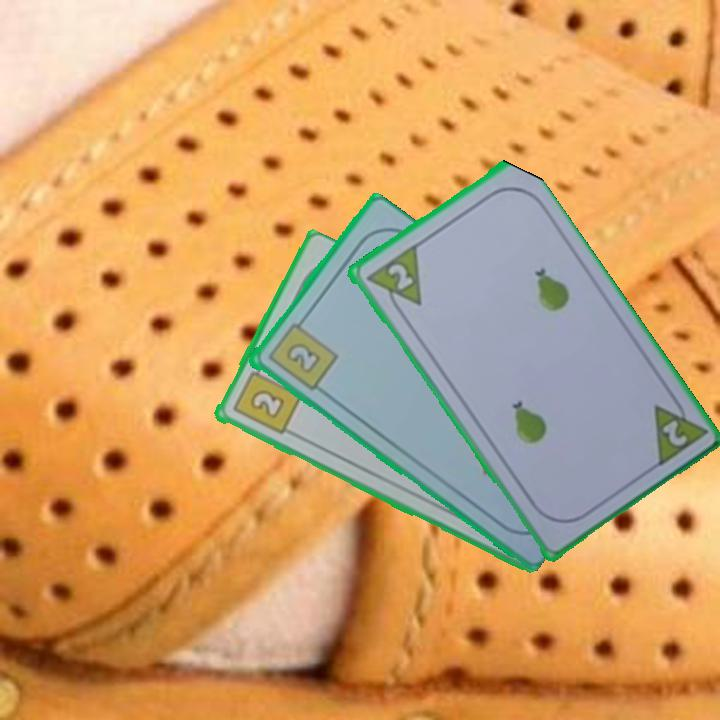2b: (263, 313, 340, 394), (228, 360, 303, 438)
2p: (649, 388, 709, 471), (383, 259, 416, 293)
